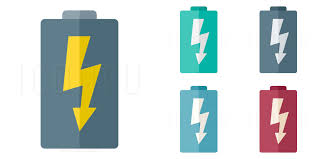charging sign: (31, 6, 118, 148), (248, 2, 302, 78), (250, 79, 299, 159), (176, 81, 225, 159), (175, 2, 222, 78)
